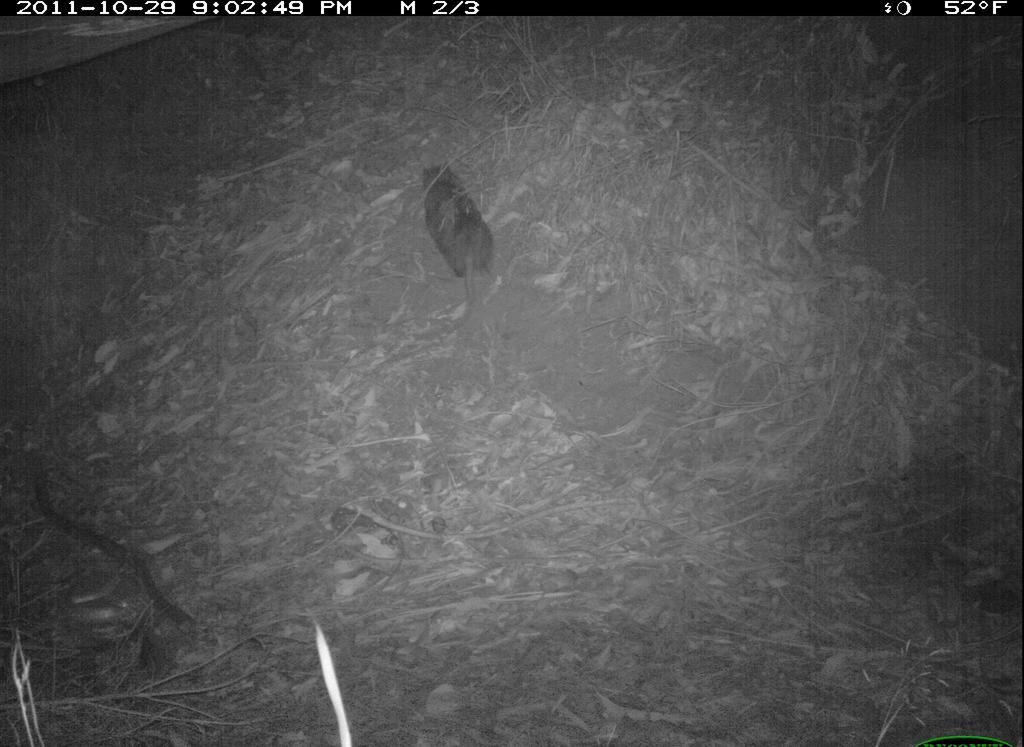opossum: (399, 158, 524, 344)
